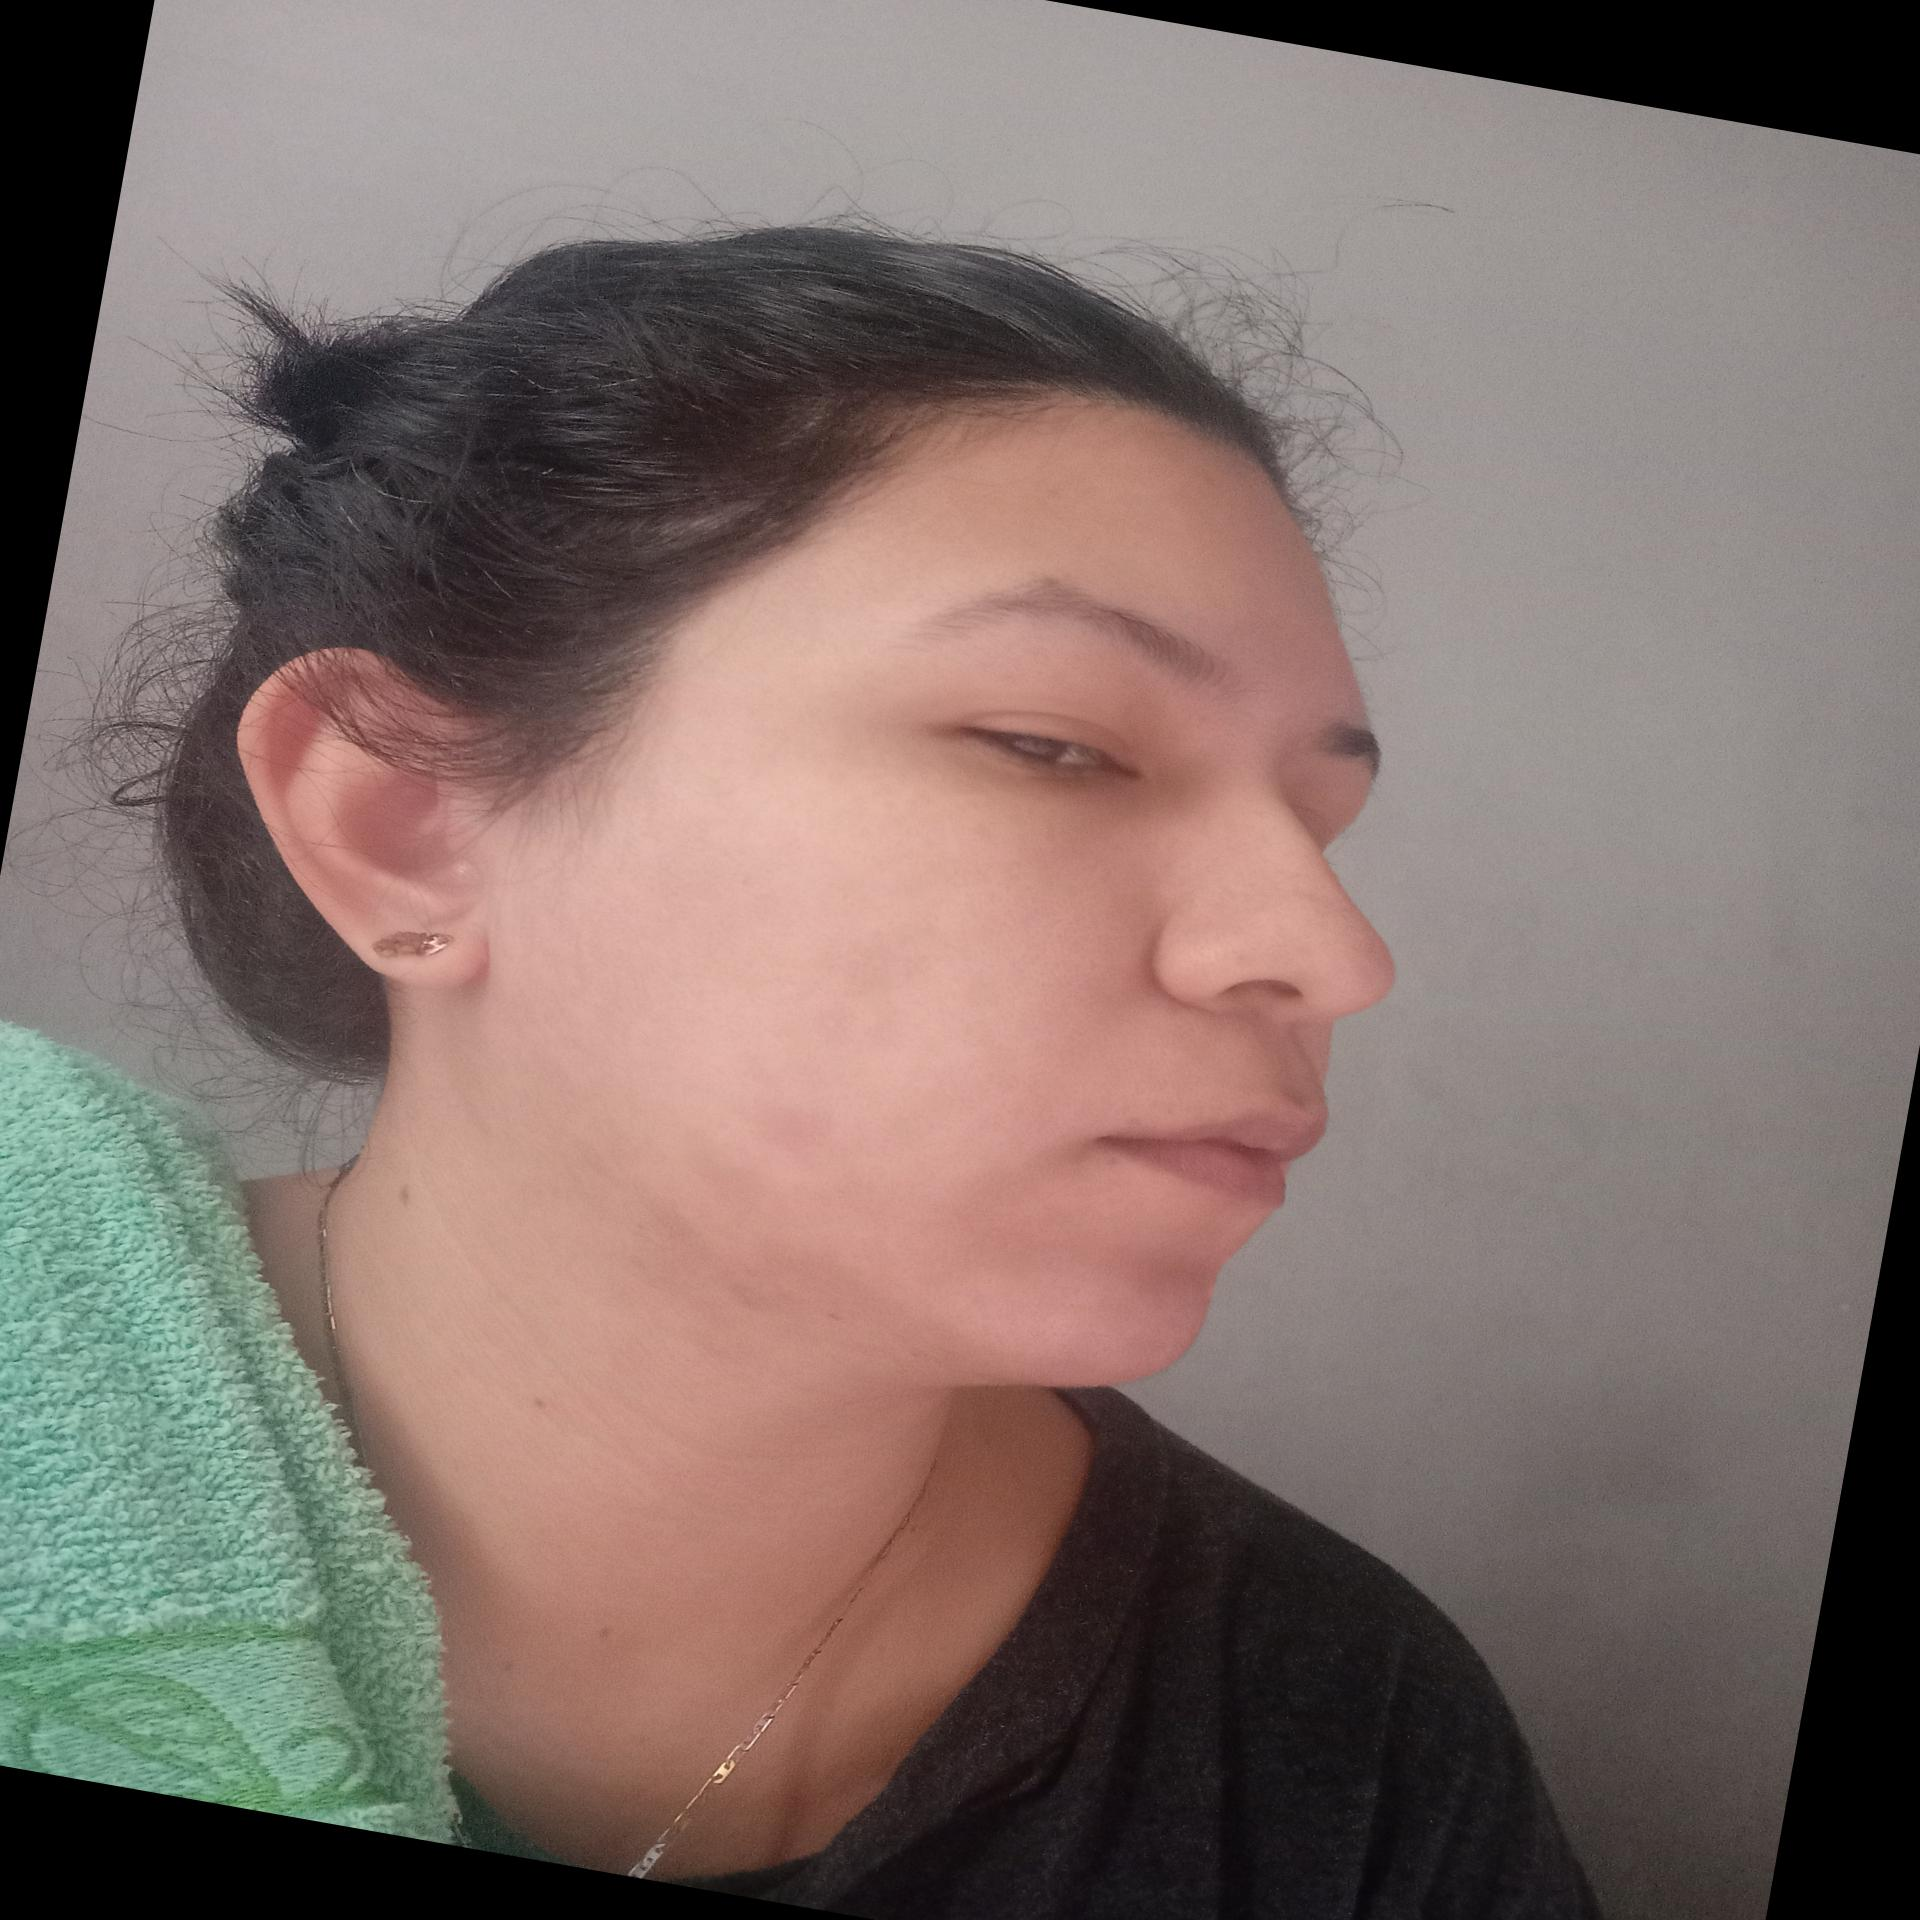Englarged Pores: (951, 856, 1152, 1039)
